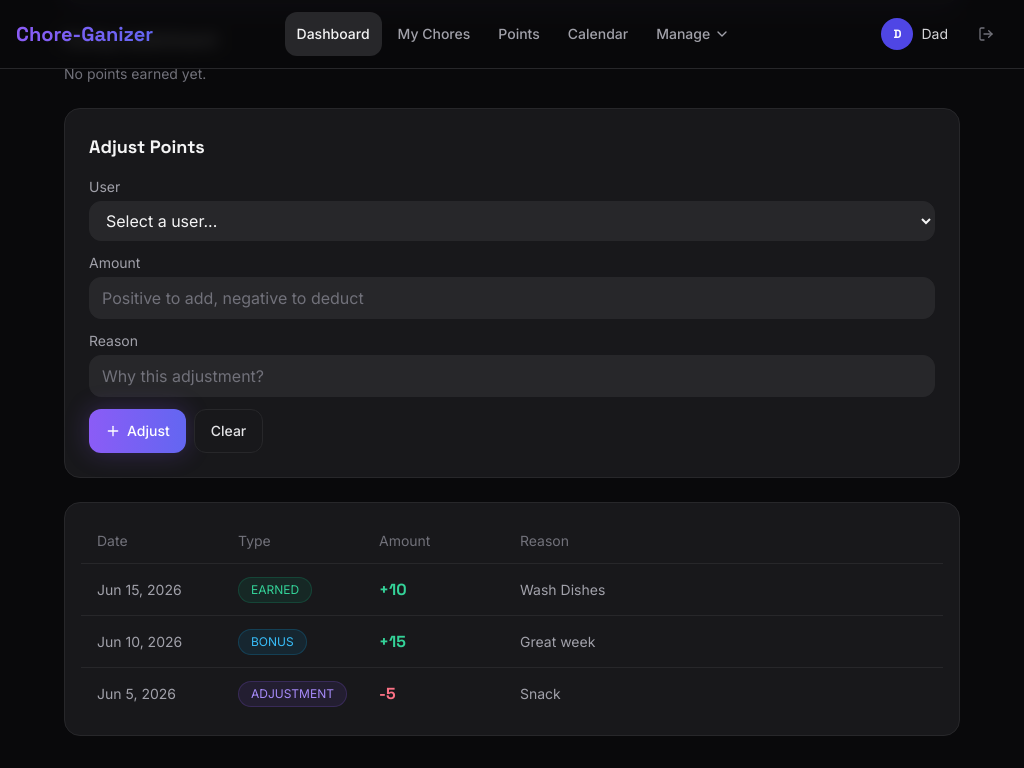
Test case: PointsPage › shows validation error on empty submit
(page scrolled)
Click the button "Adjust".
click(137, 431)  # box [89,409,186,453]
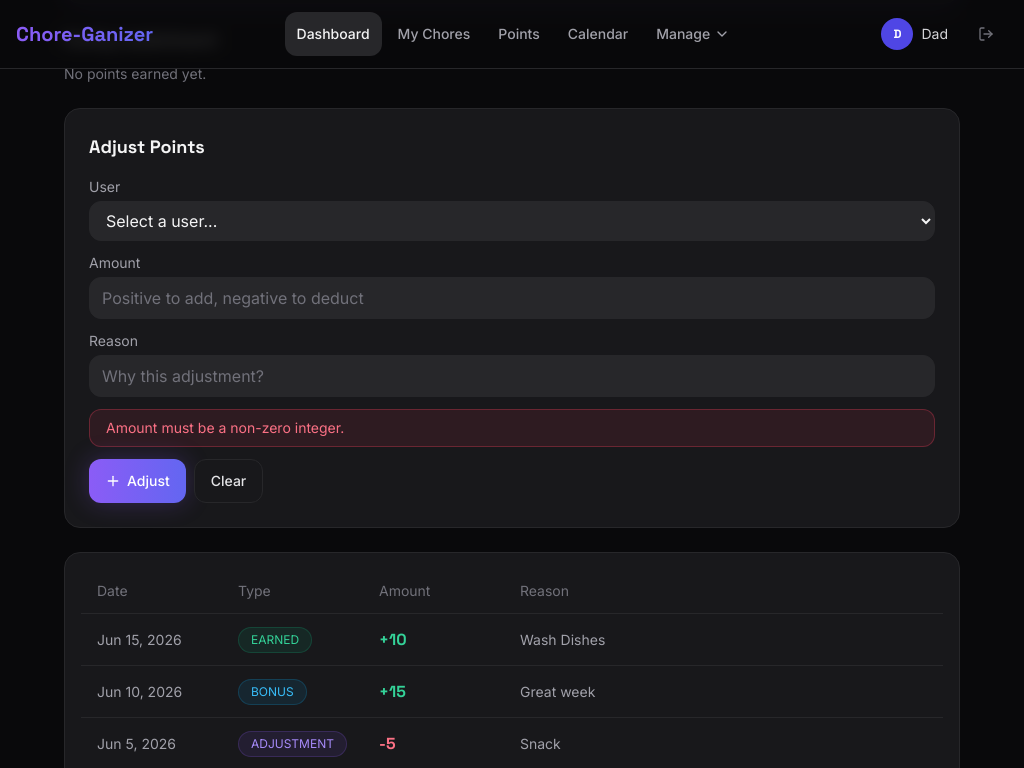
Expected: the text "Amount must be a non-zero integer." is shown, [89,409,935,447]
